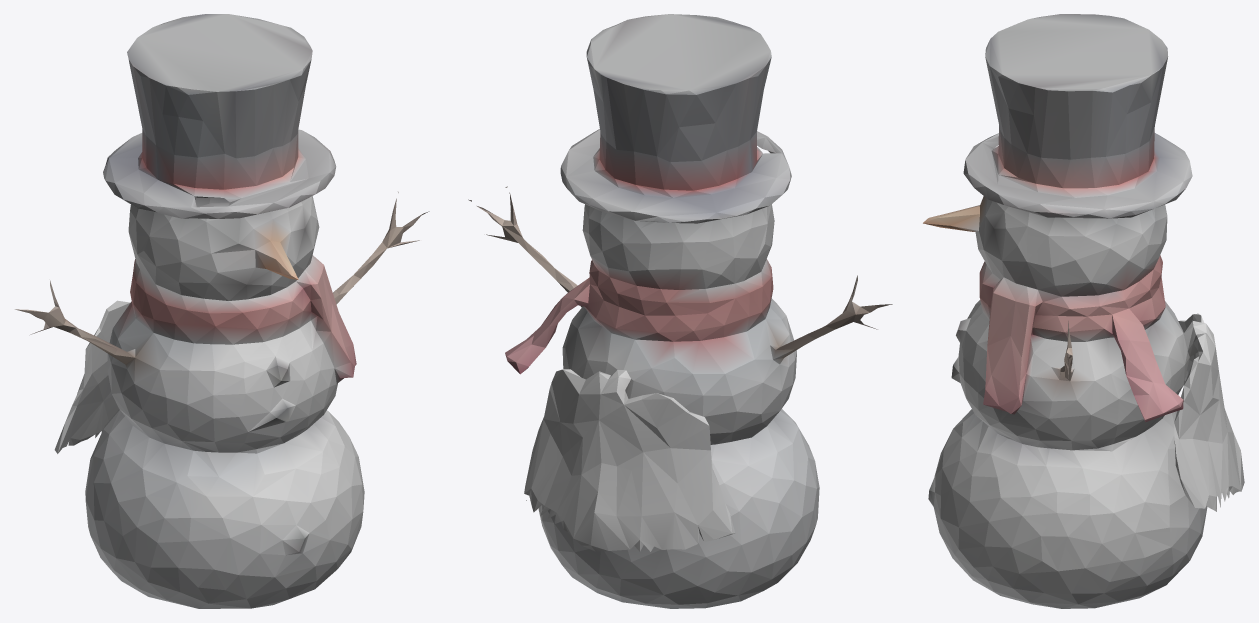
File: gen-snowman.glb
3 views of the same model, side by side, from view 1: azimuth 30°, elevation 25°; view 2: azimuth 150°, elevation 25°; view 3: azimuth 270°, elevation 25° (orthographic).
Parts seen in each view (by area): view 1: model; view 2: model; view 3: model.
Boxes of the visible parts, x1,y1,x2,y2 form: model: (15,14,429,608); model: (468,14,892,608); model: (923,14,1244,608).
Bounding box in the file's own units: 2.38 × 2.8 × 1.57.
